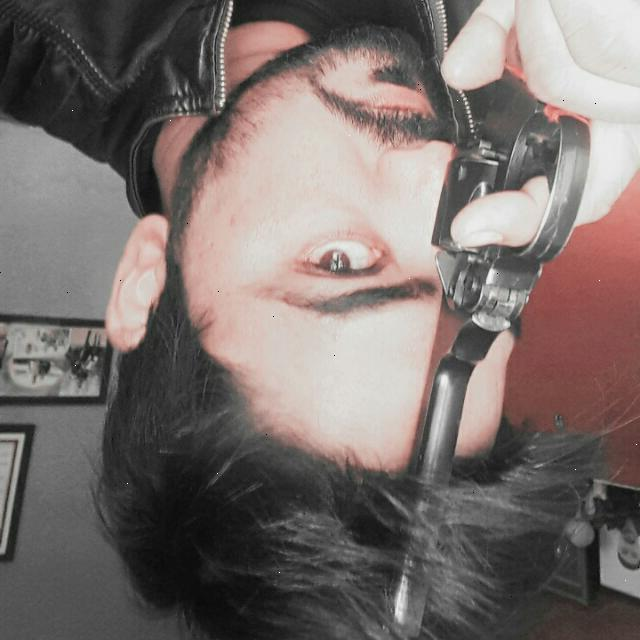gun: (370, 29, 605, 640)
